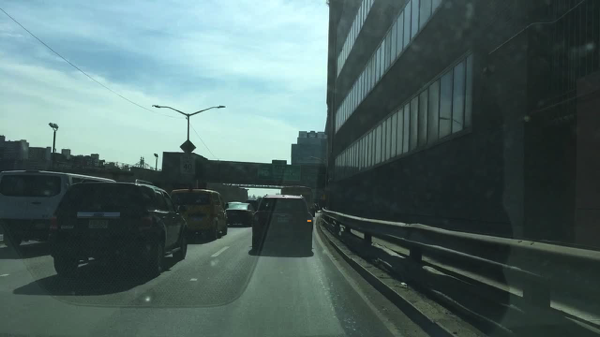car: (46, 179, 188, 277), (0, 172, 118, 249), (250, 192, 312, 252), (170, 190, 228, 240), (224, 202, 254, 227), (311, 201, 318, 213), (250, 201, 257, 211)
traffic sign: (273, 166, 299, 181), (181, 154, 196, 176), (178, 140, 197, 154), (258, 163, 272, 180), (272, 160, 286, 165)
truck: (280, 186, 314, 218)
